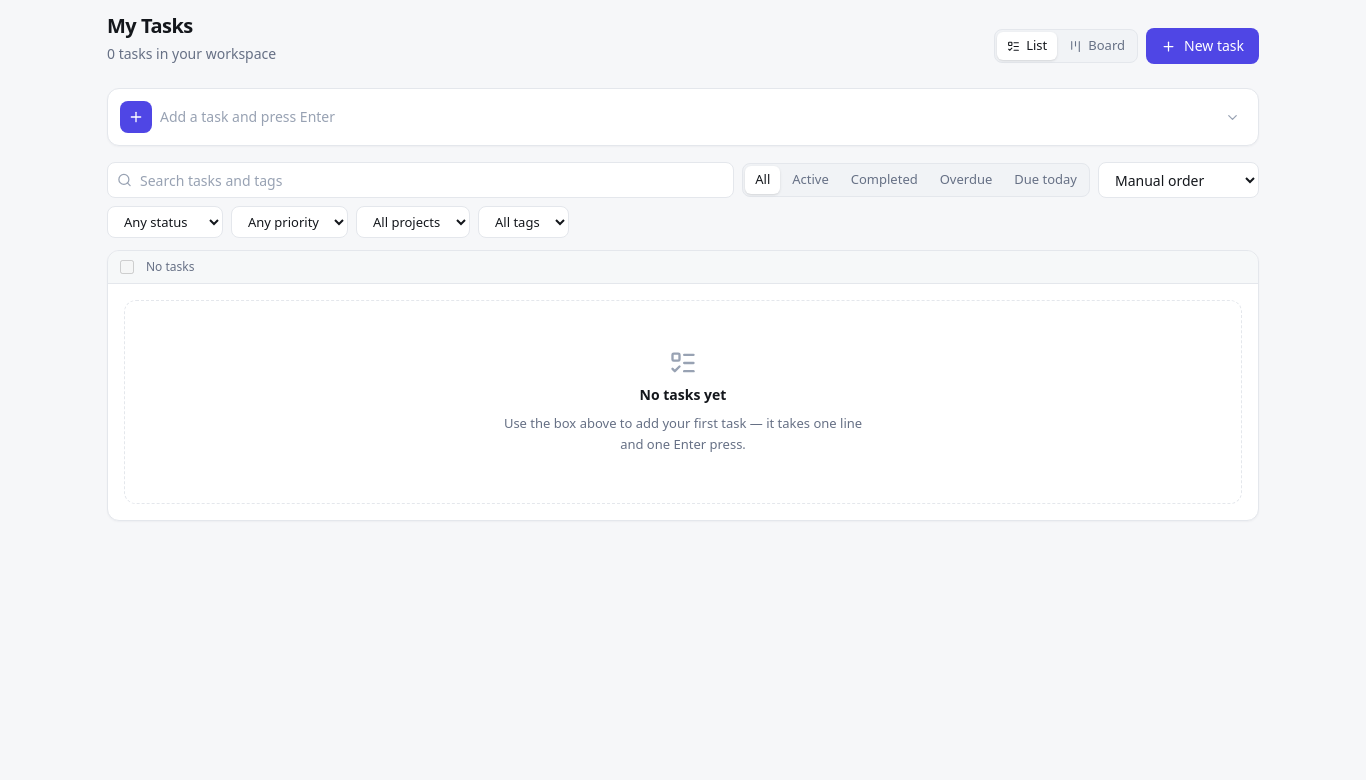
it: quick add (G1) › adds an optional due date and priority from the expanded row
Click the button named "Show task options": x=1232, y=117 [1219,104,1246,130]
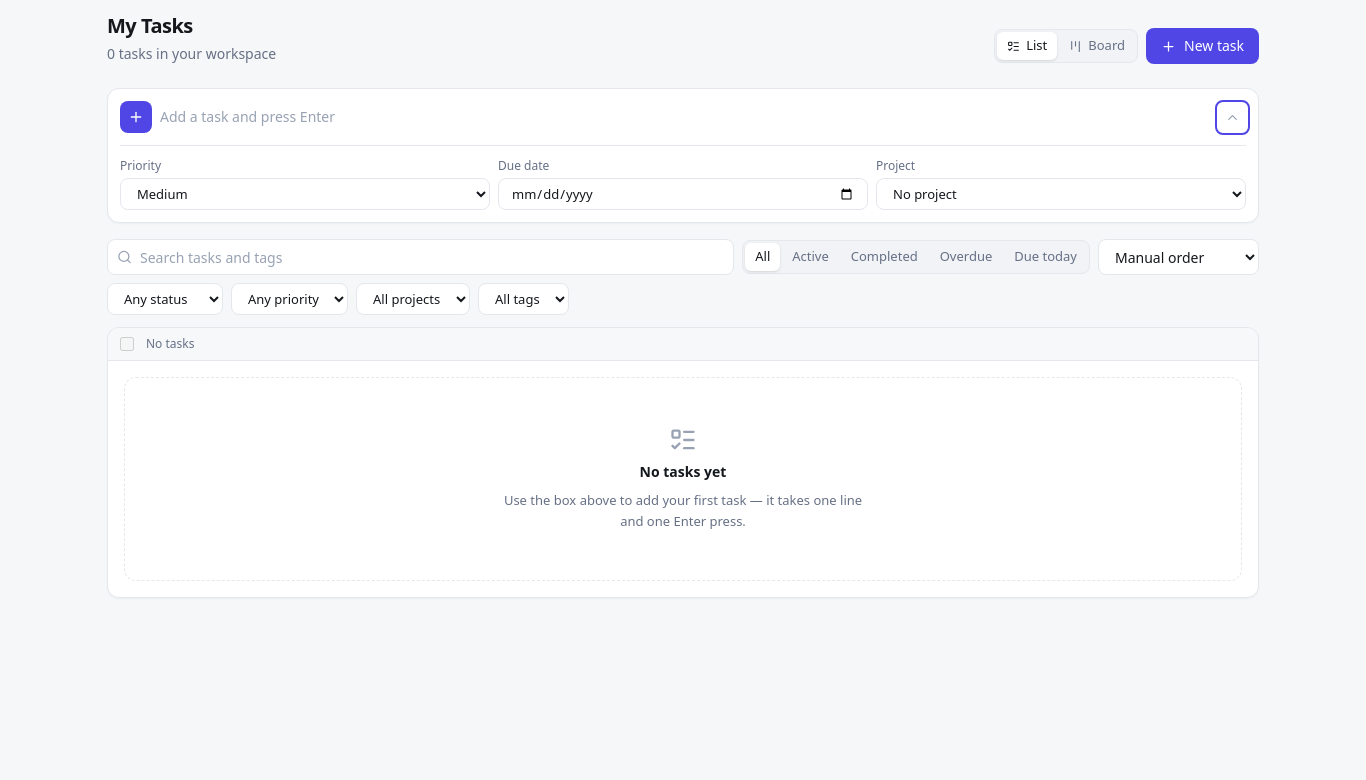
Select "High" in the dropdown labelled "Priority": x=305, y=194 [120,178,490,210]
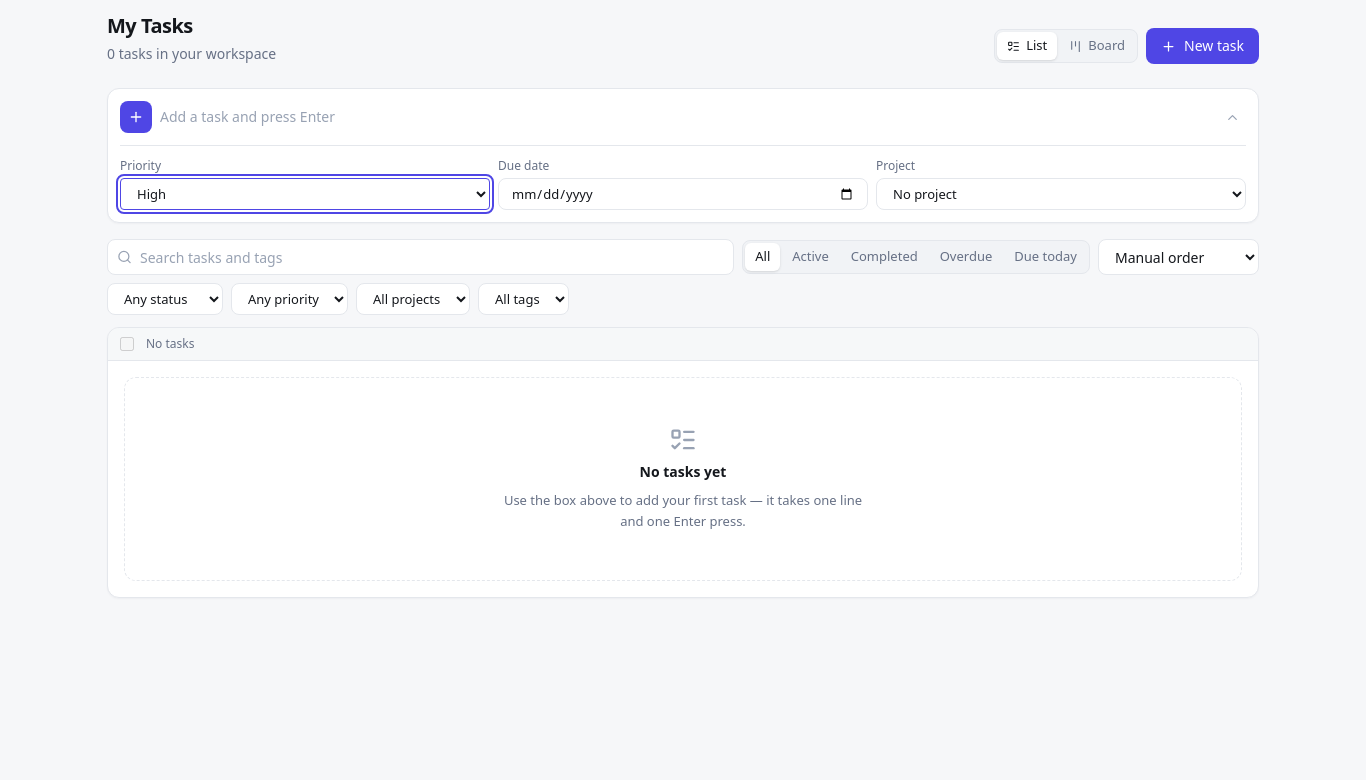
In the field named "Quick add task": x=686, y=117 [160,107,1211,127], type "Plan sprint"
Then press Enter
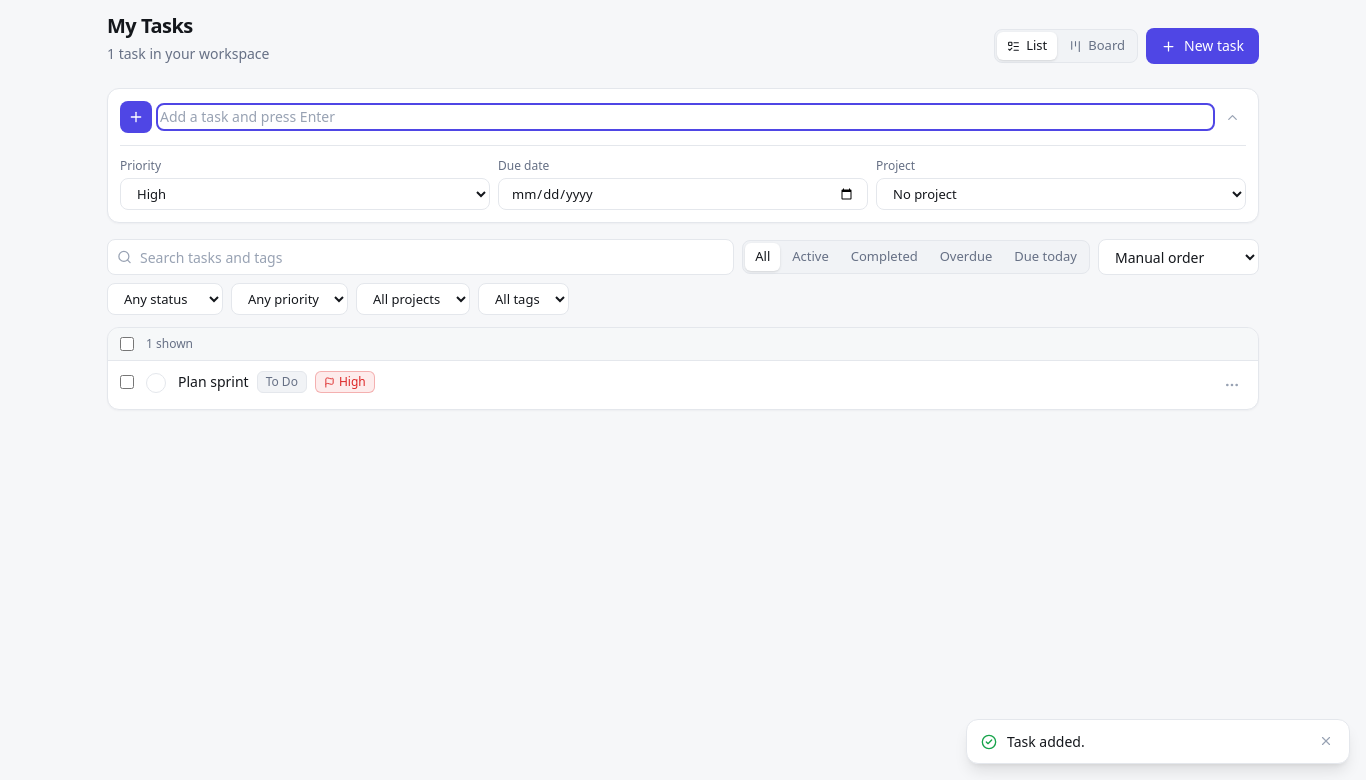
expect the button "Plan sprint" is shown: met, box [178,372,249,392]
